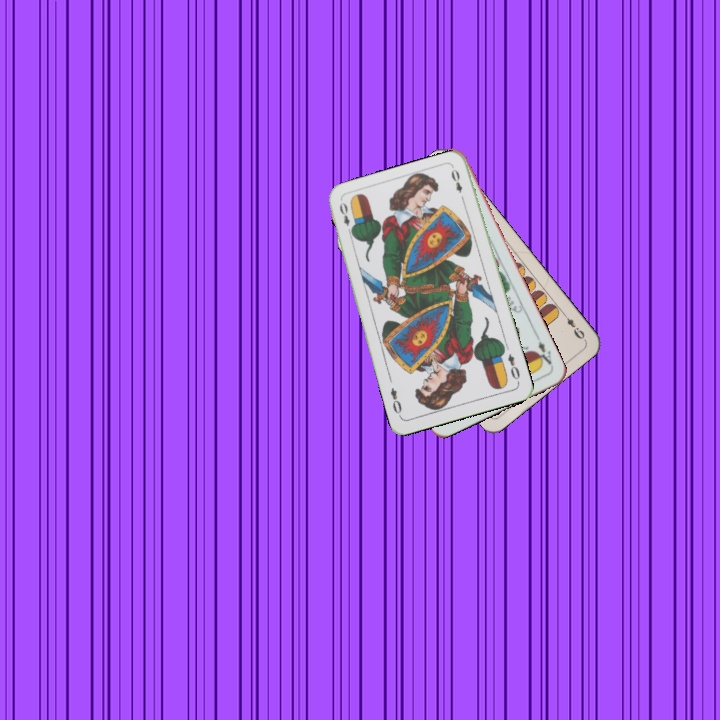E9: (559, 308, 587, 342)
EA: (531, 331, 556, 369)
EO: (335, 198, 356, 238), (504, 350, 522, 385)
